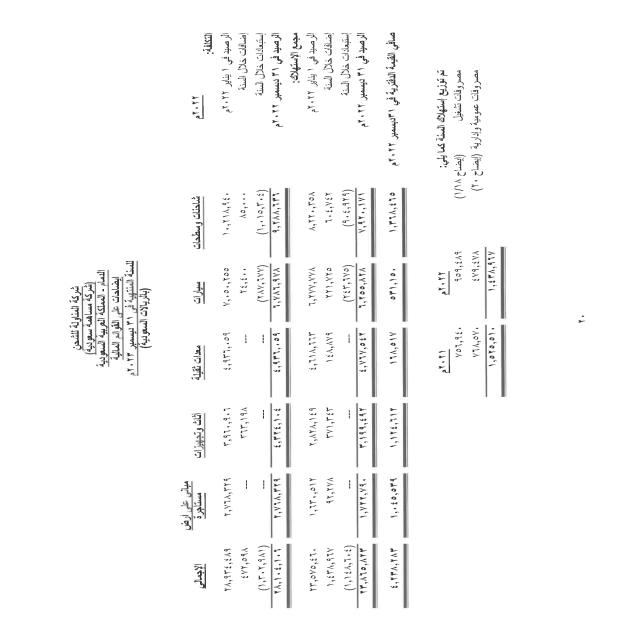notes: (109, 277, 122, 365)
table: (173, 189, 516, 618)
